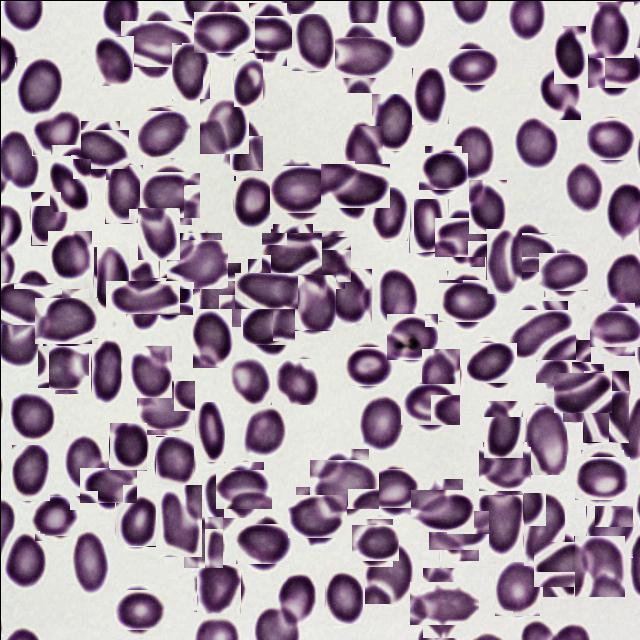red blood cell: (314, 453, 374, 512), (512, 304, 571, 364), (126, 13, 184, 72), (582, 370, 628, 442), (478, 483, 522, 555), (573, 535, 624, 597), (332, 29, 388, 85), (168, 235, 224, 291), (326, 157, 382, 213), (416, 574, 472, 630), (522, 492, 564, 566), (38, 292, 93, 348), (272, 162, 328, 216), (0, 275, 54, 331), (159, 484, 201, 556), (14, 56, 62, 118), (538, 536, 592, 591), (364, 542, 412, 603), (138, 378, 192, 432), (115, 270, 169, 324), (142, 167, 196, 220), (415, 483, 468, 536), (526, 404, 566, 474), (291, 489, 343, 542), (198, 262, 240, 327), (295, 233, 347, 285), (199, 98, 248, 153), (138, 108, 189, 159), (442, 274, 492, 326), (198, 6, 250, 56), (290, 13, 334, 71), (494, 561, 540, 616), (588, 1, 633, 57), (242, 8, 292, 58), (500, 226, 550, 276), (266, 228, 316, 278), (433, 505, 483, 555), (405, 378, 455, 428), (240, 265, 290, 315), (70, 530, 109, 593), (377, 267, 416, 330), (371, 93, 414, 150), (577, 452, 626, 502), (74, 124, 124, 173), (558, 368, 608, 417), (585, 505, 632, 557), (342, 125, 382, 186), (359, 394, 402, 450), (439, 212, 488, 261), (386, 312, 436, 360), (215, 119, 262, 170), (8, 389, 54, 441), (65, 432, 106, 490), (485, 228, 521, 294), (538, 336, 587, 384), (480, 443, 528, 492), (293, 274, 335, 330), (92, 246, 128, 311), (482, 400, 522, 458), (38, 343, 86, 391), (238, 519, 286, 567), (219, 465, 267, 513), (31, 108, 80, 155), (170, 42, 209, 101), (192, 308, 231, 367), (516, 115, 559, 168), (329, 268, 371, 322), (48, 158, 90, 212), (104, 164, 142, 223), (453, 123, 493, 179), (274, 574, 317, 626), (538, 66, 580, 119), (204, 471, 243, 528), (194, 565, 241, 612), (4, 533, 44, 588), (240, 404, 284, 454), (137, 207, 179, 259), (129, 345, 171, 397), (85, 461, 131, 508), (408, 198, 448, 252), (232, 175, 272, 229), (226, 356, 271, 404), (47, 230, 91, 279), (11, 444, 49, 500), (371, 465, 417, 511), (115, 586, 161, 632), (588, 116, 634, 162), (590, 44, 636, 90), (411, 67, 448, 124), (114, 495, 155, 546), (421, 348, 459, 403), (182, 516, 222, 568), (32, 492, 77, 538), (272, 358, 318, 403), (324, 570, 362, 624), (468, 179, 506, 233), (143, 273, 188, 318), (593, 306, 638, 351), (449, 44, 494, 89), (468, 340, 514, 384), (94, 34, 134, 84), (370, 186, 407, 240), (564, 160, 601, 214), (30, 191, 67, 245), (154, 435, 193, 486), (246, 304, 291, 348), (90, 338, 120, 403), (346, 343, 390, 387), (540, 249, 584, 293), (420, 148, 464, 192), (553, 25, 585, 83), (194, 401, 224, 462), (108, 422, 146, 469), (353, 521, 395, 563), (233, 58, 262, 106)
